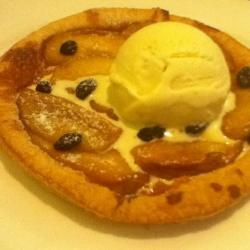apple_pie: (3, 6, 250, 233)
icecream: (104, 28, 234, 141)
